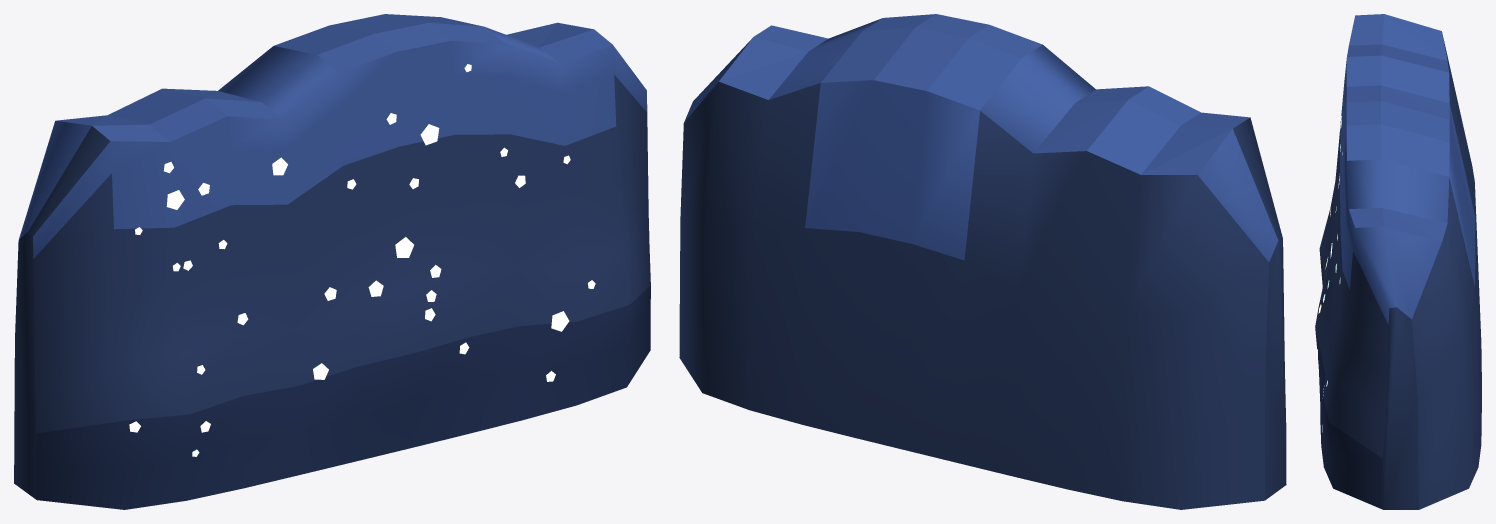
The model's file is trench-wall.glb.
3 views of the same model, side by side, from view 1: azimuth 30°, elevation 25°; view 2: azimuth 150°, elevation 25°; view 3: azimuth 270°, elevation 25° (orthographic). The views are drawn at different scales.
Visible parts, largest first — view 1: trench-wall; view 2: trench-wall; view 3: trench-wall.
Boxes of the visible parts, x1,y1,x2,y2 form: trench-wall: (14,14,650,509); trench-wall: (679,14,1286,509); trench-wall: (1315,14,1481,509).
Bounding box in the file's own units: 40 × 24 × 12.
